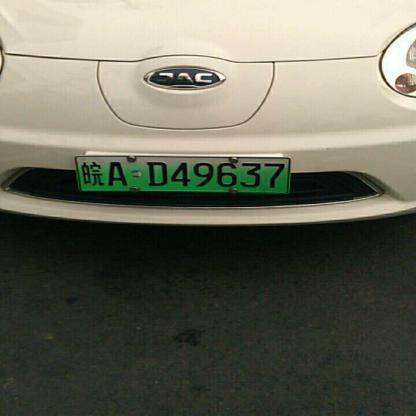lp: (75, 156, 290, 192)
